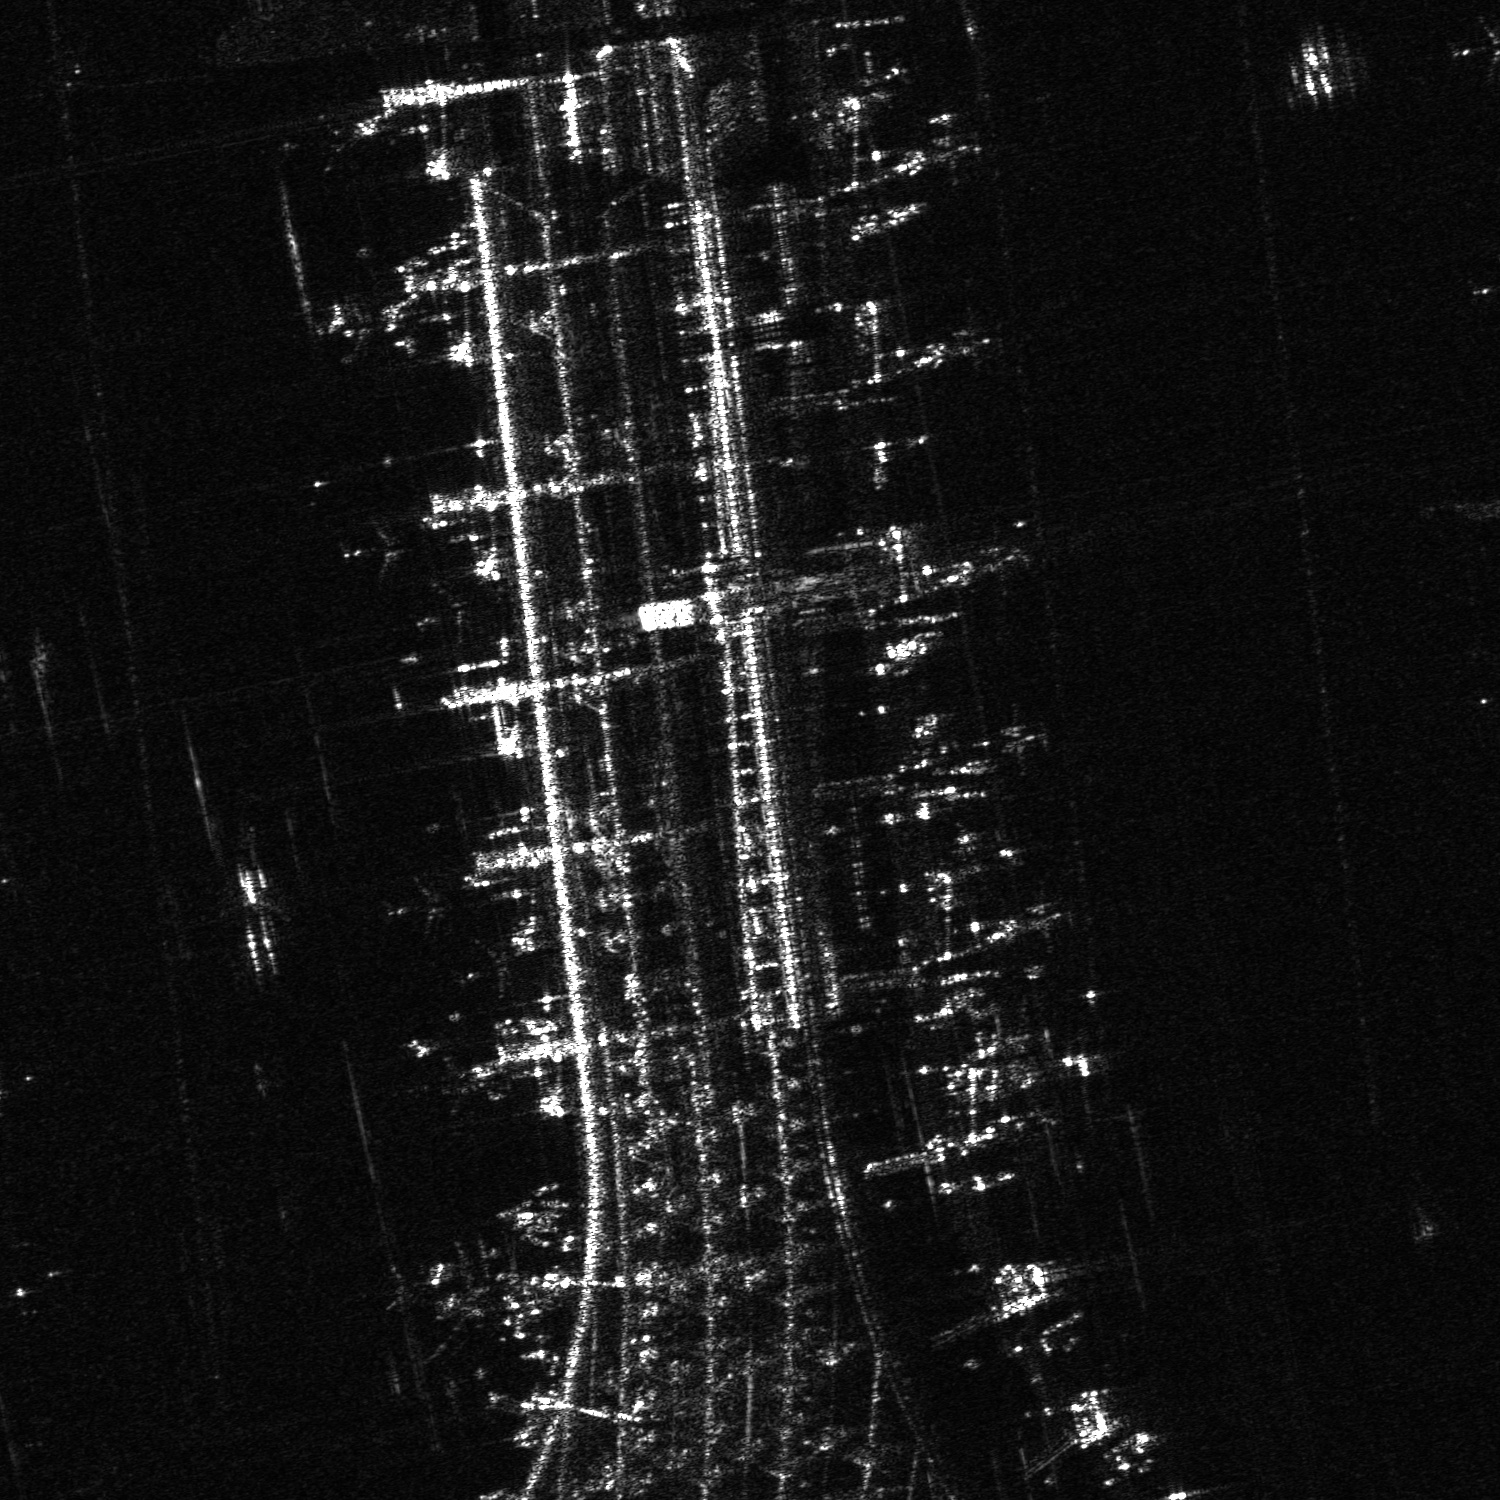Boeing737: (852, 49, 909, 106)
Boeing787: (382, 1232, 501, 1364), (379, 870, 455, 944), (343, 518, 415, 587), (411, 580, 479, 646), (457, 935, 521, 999)
